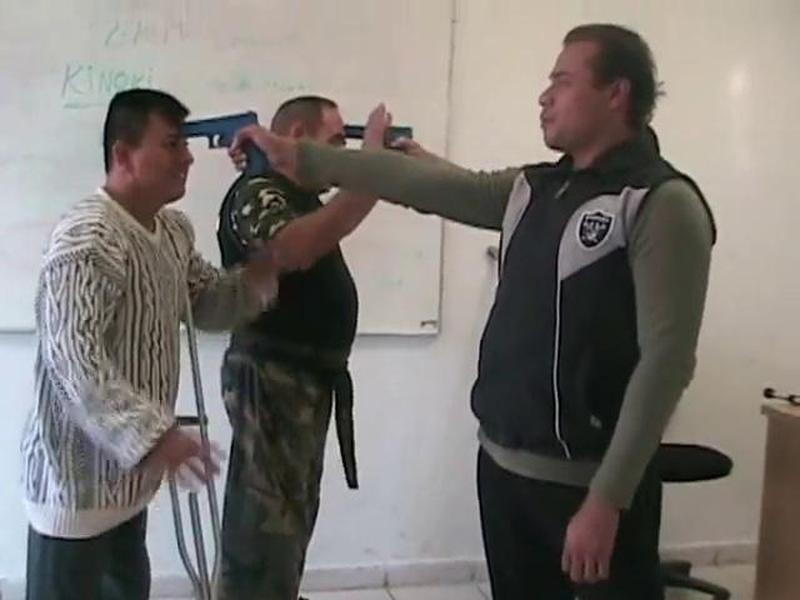Pistola: (167, 98, 284, 194)
